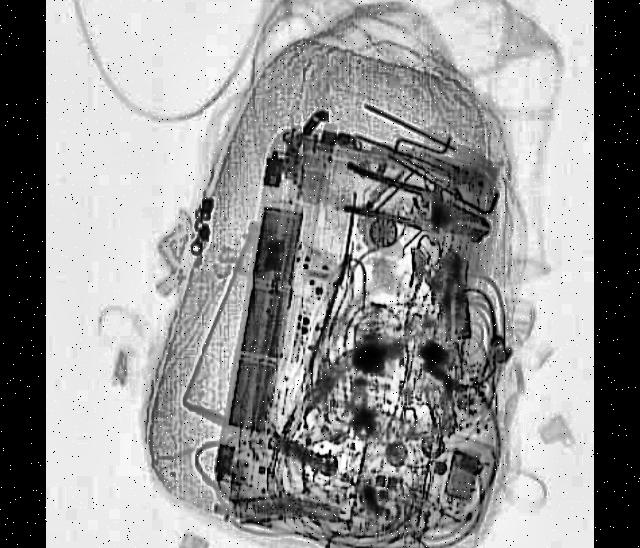Pliers: (342, 162, 496, 253)
